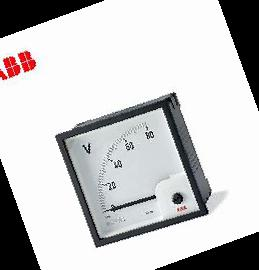pointer: (62, 107, 201, 239)
